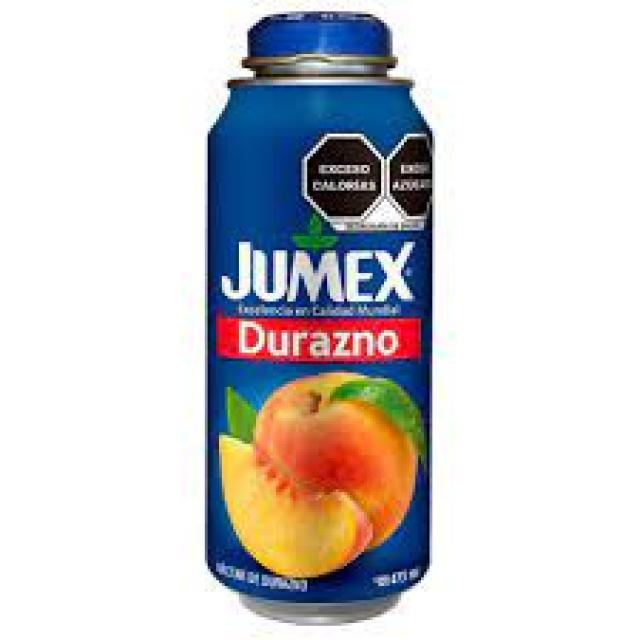Botella: (202, 6, 438, 619)
